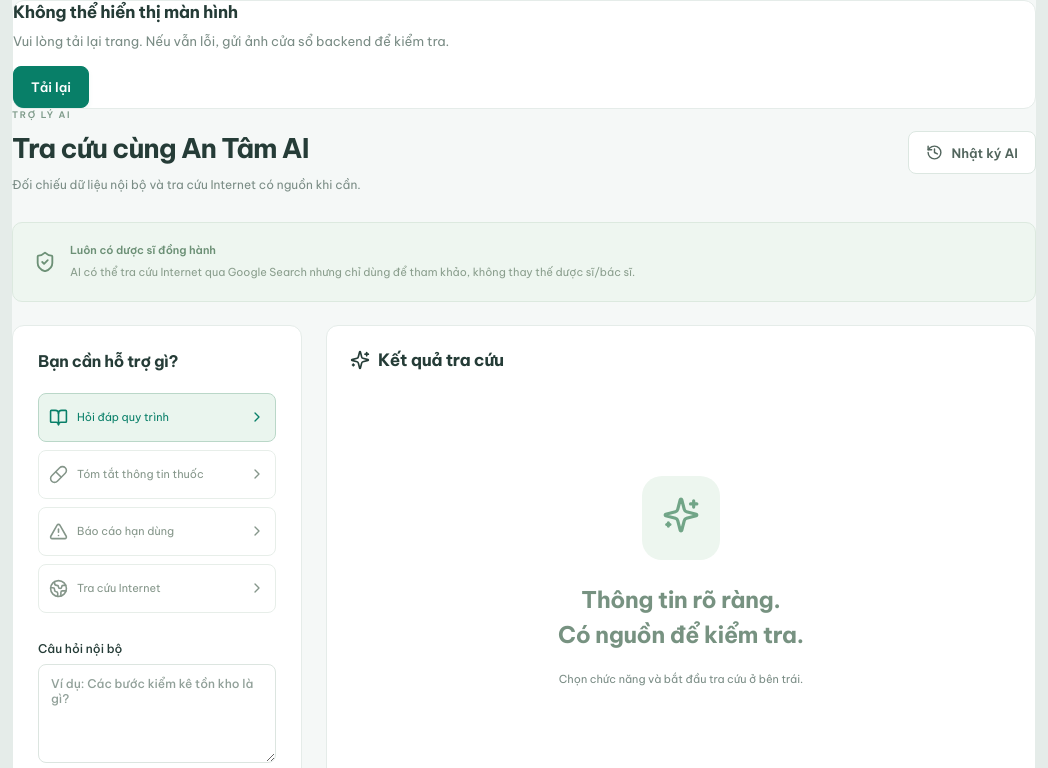
AI shows missing key error and stays usable
Type "Kiểm kê như thế nào?" into the text box labelled "Câu hỏi nội bộ" at (157, 713), box [38,664,276,763]
(page scrolled)
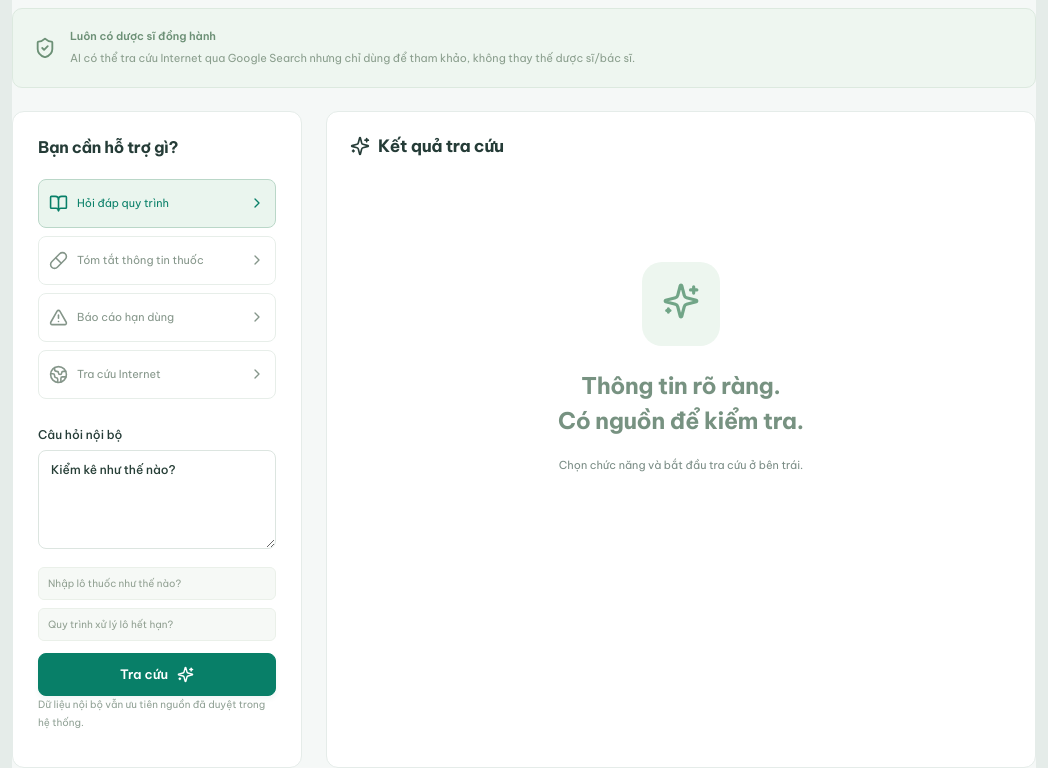
Click the button "Tra cứu" at (157, 674), box [38,653,276,696]
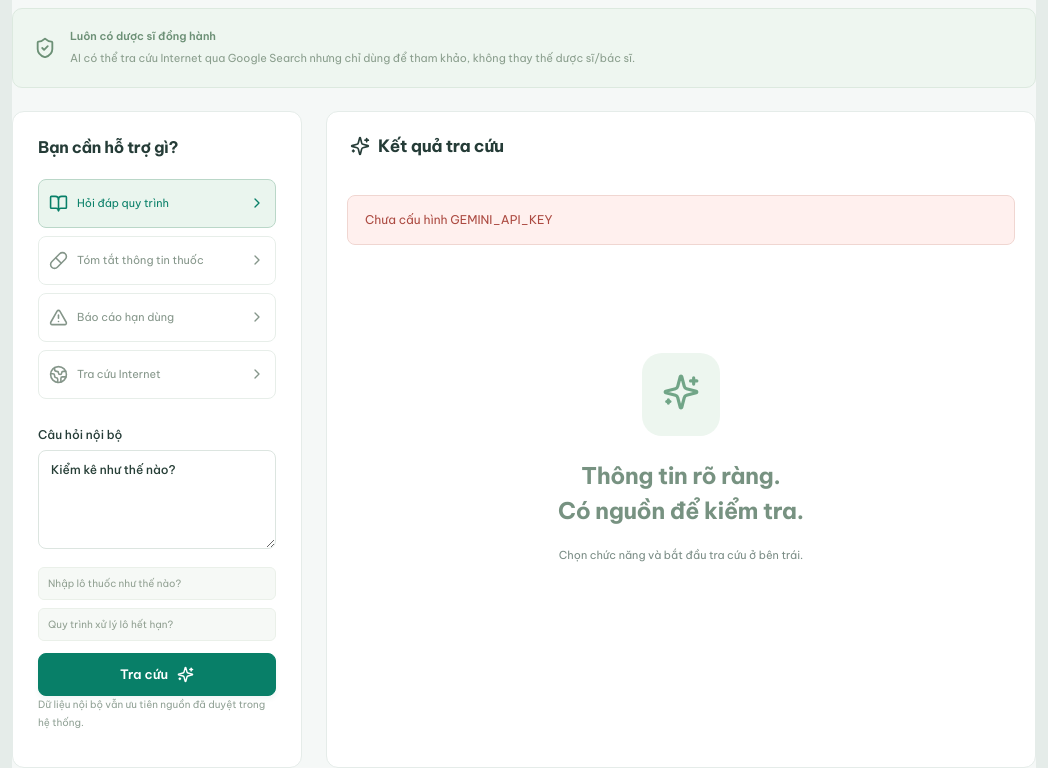
Result: the text "Chưa cấu hình GEMINI_API_KEY" is shown at [347,195,1015,245]
